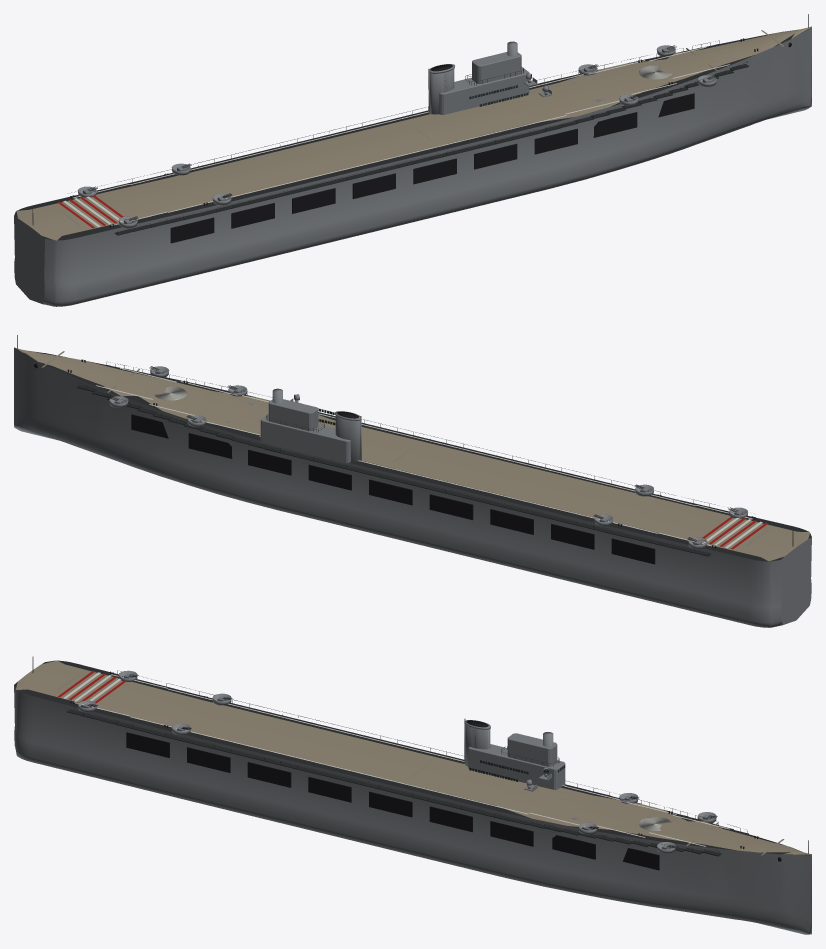
File: hiryu_lod.glb
3 views of the same model, one above another, from view 1: azimuth 30°, elevation 25°; view 2: azimuth 150°, elevation 25°; view 3: azimuth 330°, elevation 25° (orthographic).
Parts seen in each view (by area): view 1: hiryu_lod; view 2: hiryu_lod; view 3: hiryu_lod.
Boxes of the visible parts, x1=… form: hiryu_lod: x1=14, y1=14, x2=811, y2=306; hiryu_lod: x1=14, y1=335, x2=811, y2=627; hiryu_lod: x1=14, y1=656, x2=811, y2=934.
Size of the model in its own units: 227 by 33.48 by 25.71.
